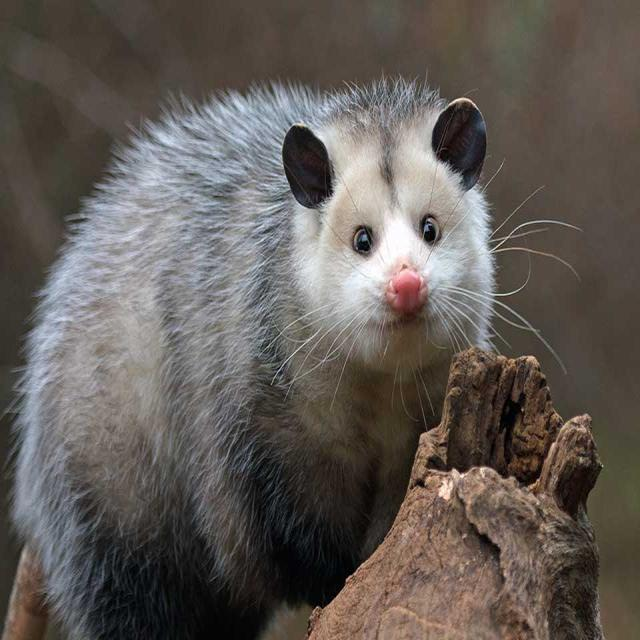Possum: (11, 70, 503, 640)
